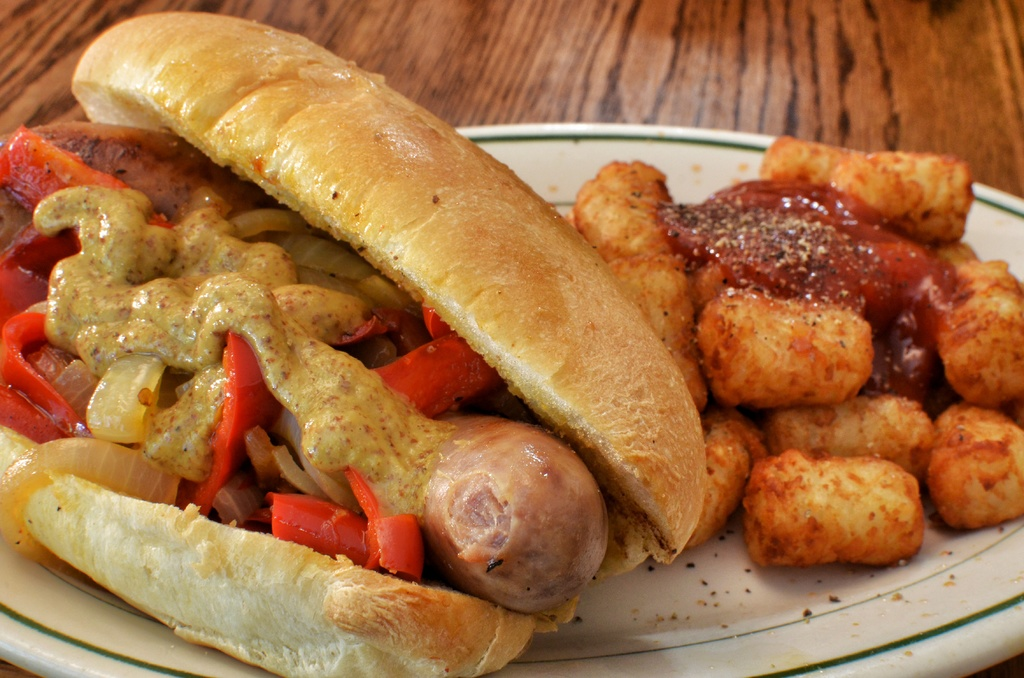hot_dog: (0, 0, 711, 677)
